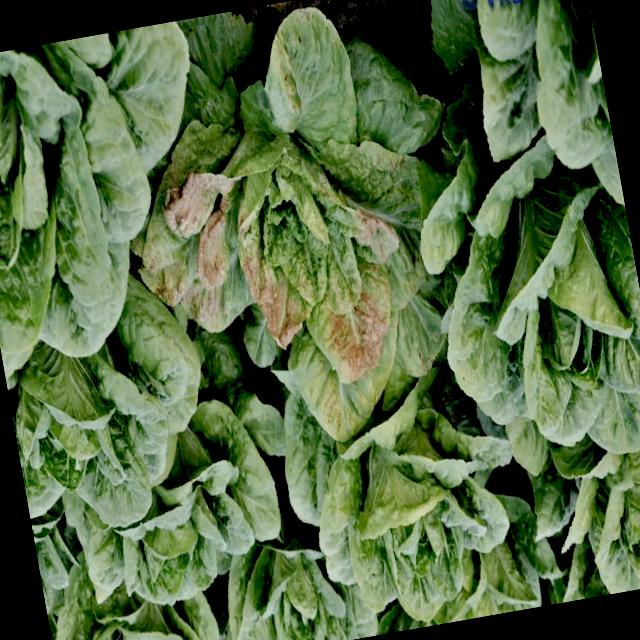Viral: (108, 8, 485, 470)
